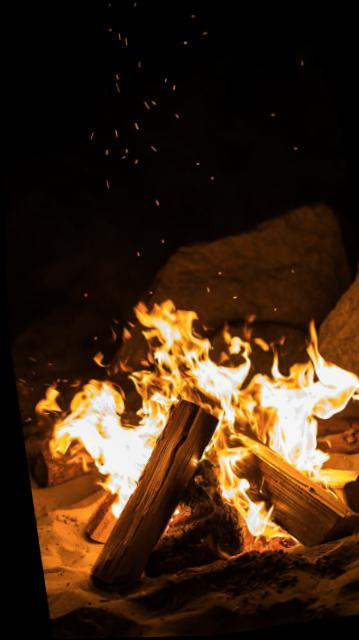fire: (33, 375, 124, 458), (256, 366, 321, 477), (139, 301, 204, 374), (294, 357, 358, 418), (187, 355, 255, 412), (208, 445, 255, 506), (103, 419, 155, 469), (94, 446, 138, 502), (129, 371, 185, 412), (219, 406, 263, 442), (240, 501, 275, 540), (133, 405, 164, 435), (300, 322, 321, 363), (223, 334, 253, 356), (209, 426, 224, 450)
